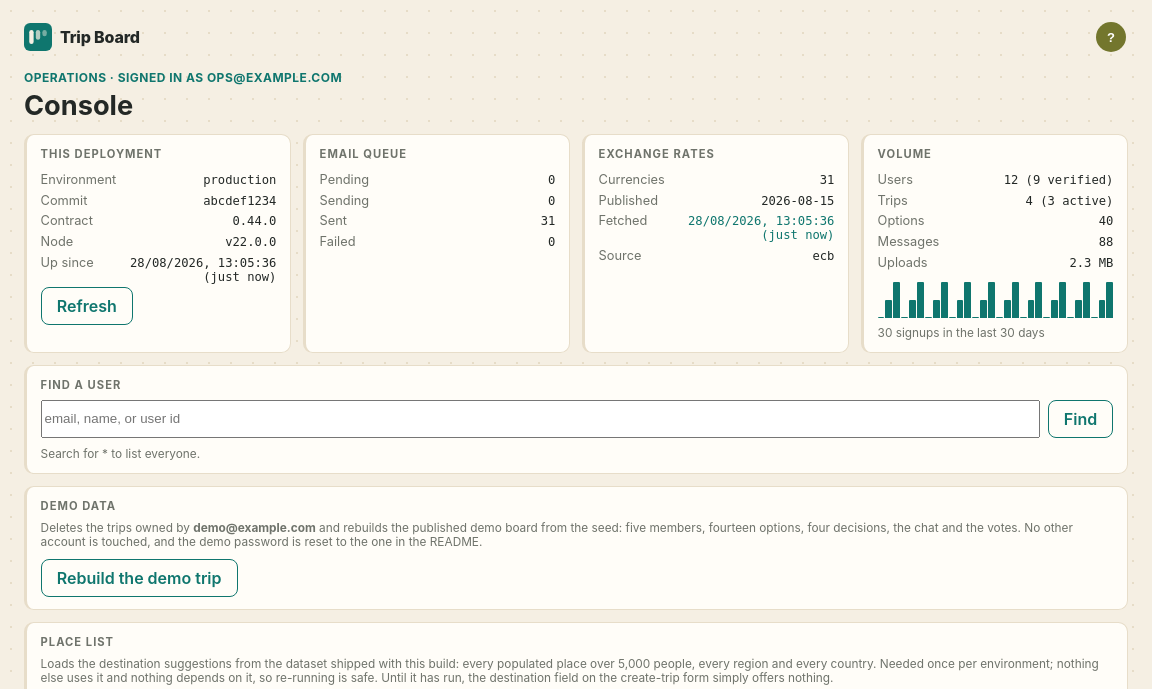
Test: listing everyone › says how many there are, not just how many fit
This screenshot has width=1152, height=689.
Expected: the text "abcdef1234" is shown, [203,194,276,208]
Type "*" into the field with placeholder "email, name, or user id".
click(540, 418); type("*")  # box [41,400,1040,438]
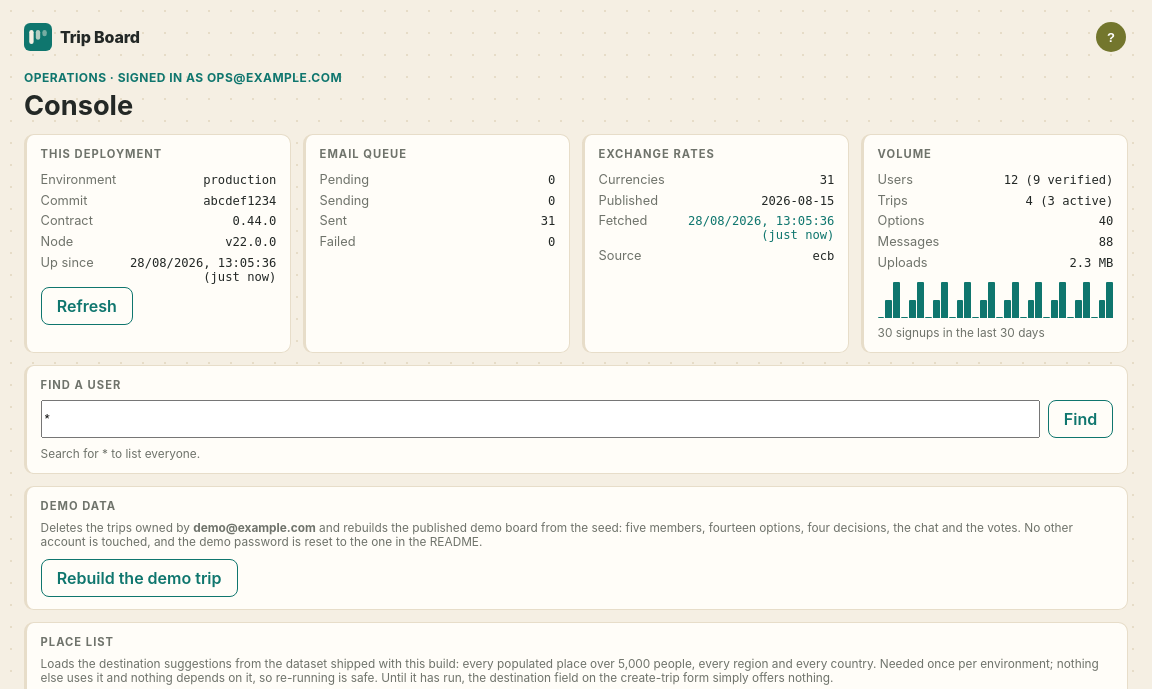
Click the button "Find".
click(1081, 418)  # box [1048,400,1114,438]
(page scrolled)
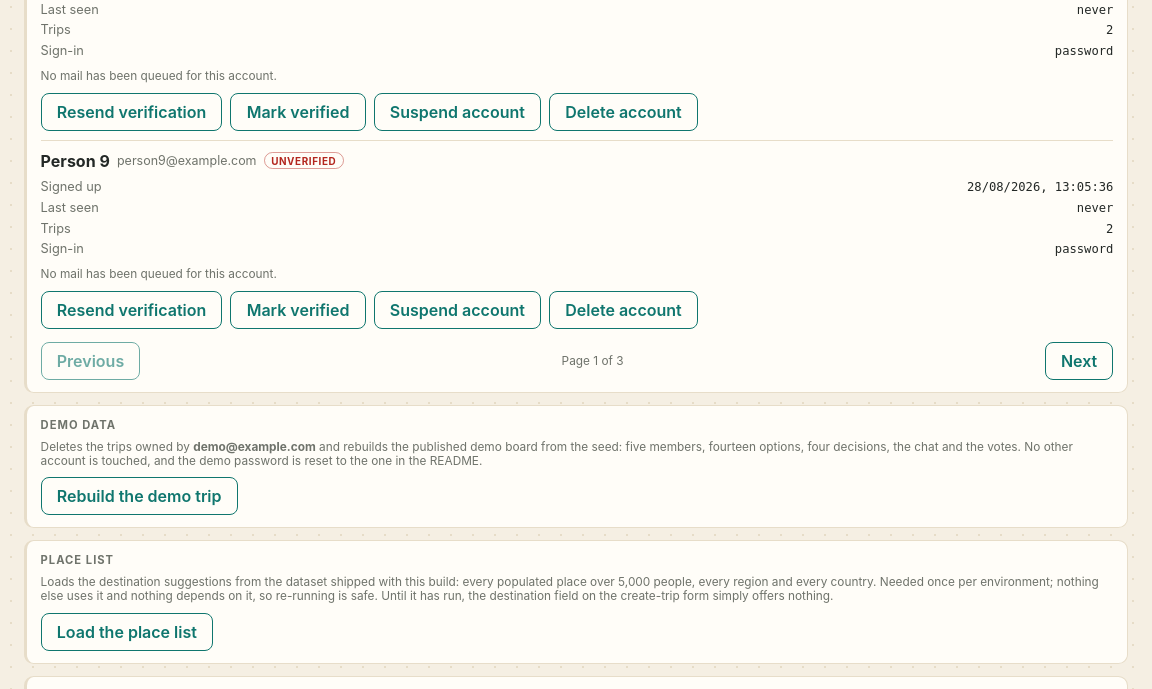
Expected: the text "Page 1 of 3" is shown, [562,354,624,368]
